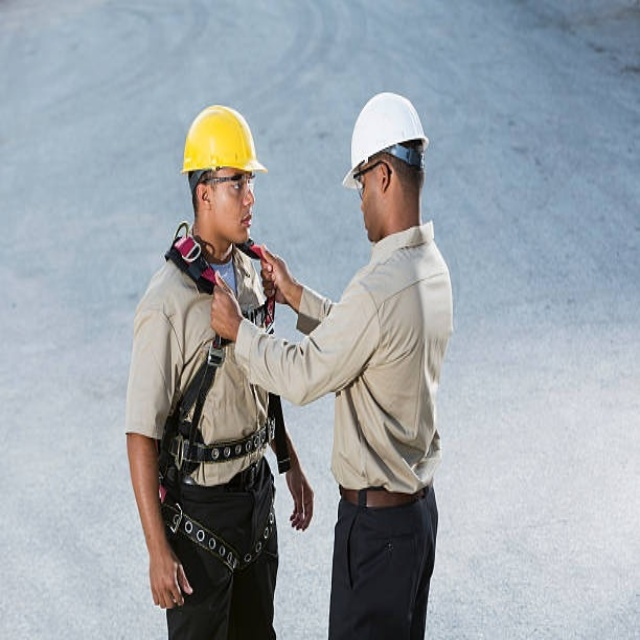Gafas: (205, 171, 258, 198), (352, 158, 383, 201)
Sin_guantes: (150, 544, 192, 609), (208, 270, 238, 345), (258, 240, 293, 303), (285, 462, 314, 532)
Sin_mascara: (358, 195, 379, 238), (228, 209, 253, 240)
